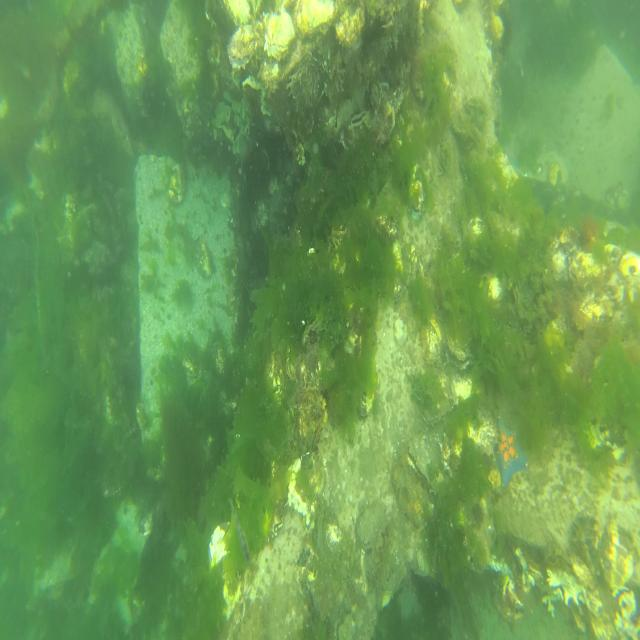starfish: (490, 415, 528, 489)
